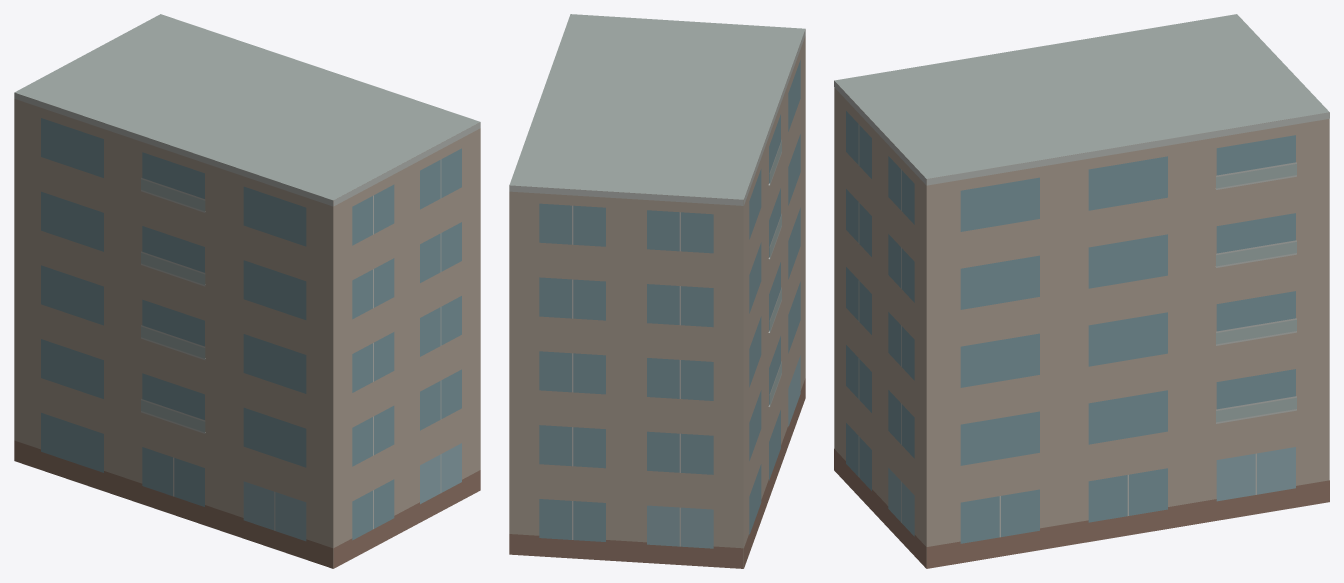
Rendered from survey-upis-32894161.glb.
3 renders of one model, left to right at view 1: azimuth 30°, elevation 25°; view 2: azimuth 150°, elevation 25°; view 3: azimuth 270°, elevation 25°, orthographic. The views are drawn at different scales.
Visible parts, largest first — view 1: survey-upis-32894161.tmp; view 2: survey-upis-32894161.tmp; view 3: survey-upis-32894161.tmp.
Boxes of the visible parts, <box> form: survey-upis-32894161.tmp: <box>14,14,480,568</box>; survey-upis-32894161.tmp: <box>509,14,805,568</box>; survey-upis-32894161.tmp: <box>834,14,1329,568</box>.
Size of the model in its own units: 13.18 by 14.5 by 16.72.
